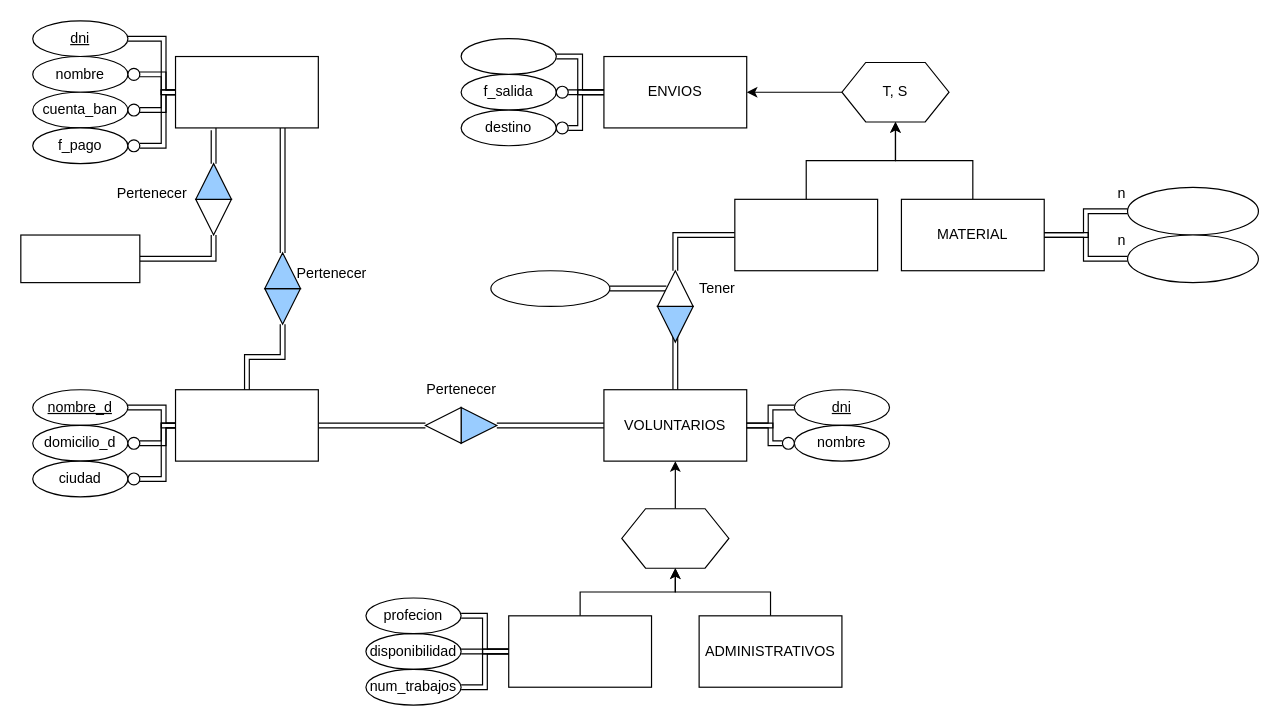
Image size: 1279x726. Some labels were removed from this diagram. Here are the shapes that lost their labels. From the top down, the box of each, then its label:
(460, 37, 556, 74): cod_envio
(174, 55, 318, 128): SOCIOS
(1126, 186, 1258, 235): ton_alimento
(734, 198, 878, 271): HUMANITARIA
(20, 234, 140, 283): TIPO DE CUENTA
(1126, 234, 1258, 283): num_medicamento
(490, 270, 610, 306): num_voluntarios
(174, 389, 318, 461): SEDE ONG
(621, 508, 729, 568): T, D
(508, 615, 652, 687): SANITARIOS
